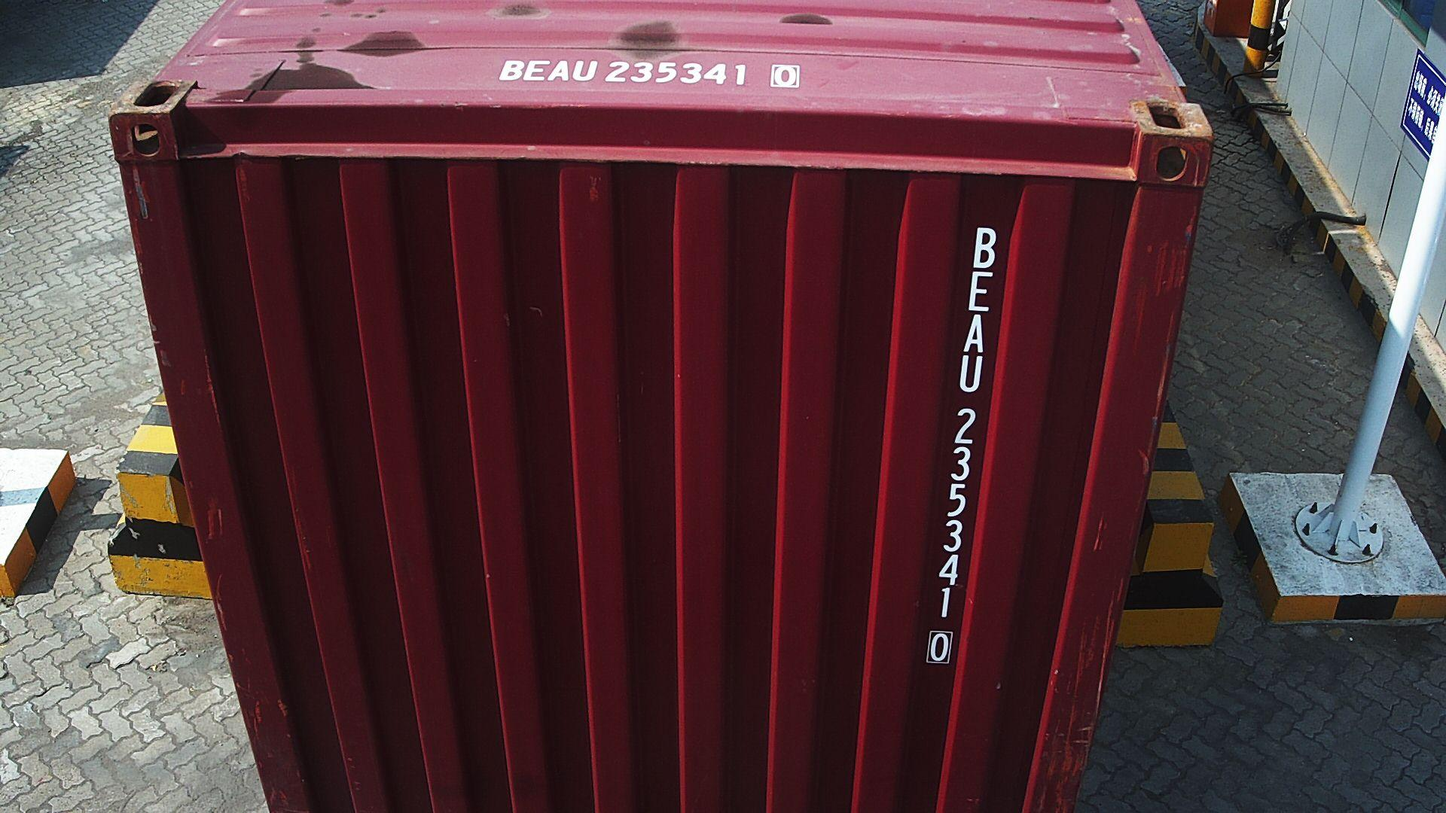container-numbers: (924, 221, 998, 665), (492, 56, 808, 90)
